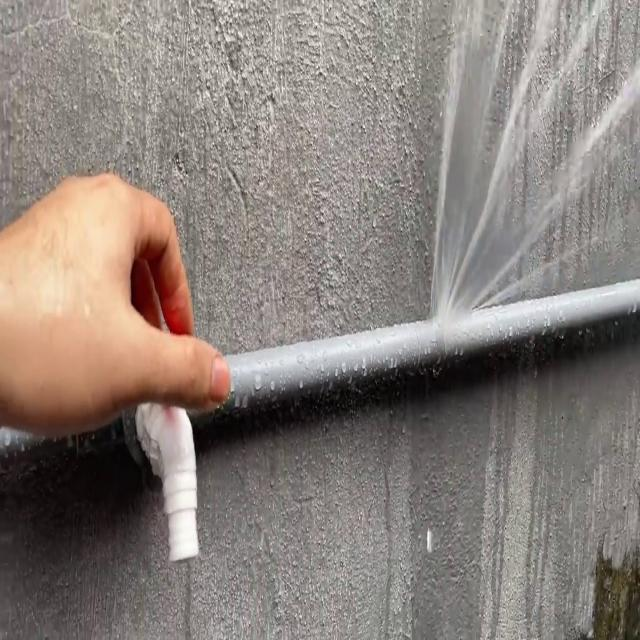leak: (427, 0, 640, 328)
